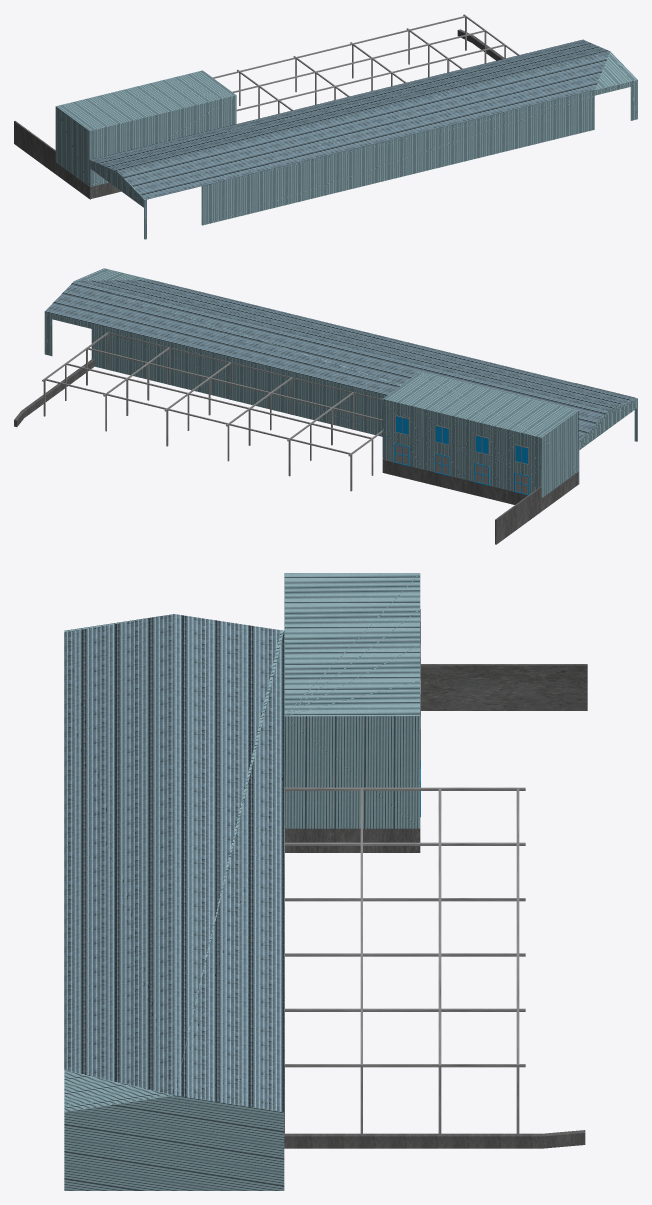
Rendered from changfang14.gltf.
The picture shows the model from 3 angles, top to bottom: view 1: azimuth 30°, elevation 25°; view 2: azimuth 150°, elevation 25°; view 3: azimuth 270°, elevation 25°; orthographic projection. The views are drawn at different scales.
Visible parts, largest first — view 1: gongchang14_1, gongchang14_12, gongchang14_7, gongchang14_16, gongchang14_9, gongchang14_10, gongchang14_6; view 2: gongchang14_1, gongchang14_12, gongchang14_7, gongchang14_10, gongchang14_9, gongchang14_6, gongchang14_16, gongchang14_17; view 3: gongchang14_1, gongchang14_12, gongchang14_7, gongchang14_6, gongchang14_9, gongchang14_10, gongchang14_18, gongchang14_14, gongchang14_15, gongchang14_22, gongchang14_21, gongchang14_23.
Boxes of the visible parts, left/top/right/bottom form: gongchang14_1: left=89, top=39, right=637, bottom=239; gongchang14_12: left=55, top=70, right=236, bottom=198; gongchang14_7: left=14, top=121, right=55, bottom=173; gongchang14_16: left=236, top=44, right=505, bottom=111; gongchang14_9: left=212, top=15, right=466, bottom=78; gongchang14_10: left=232, top=30, right=485, bottom=92; gongchang14_6: left=457, top=29, right=504, bottom=60; gongchang14_1: left=44, top=268, right=637, bottom=483; gongchang14_12: left=382, top=372, right=578, bottom=511; gongchang14_7: left=495, top=486, right=541, bottom=544; gongchang14_10: left=65, top=363, right=371, bottom=438; gongchang14_9: left=45, top=379, right=350, bottom=454; gongchang14_6: left=14, top=359, right=94, bottom=426; gongchang14_16: left=86, top=347, right=382, bottom=421; gongchang14_17: left=108, top=332, right=382, bottom=400; gongchang14_1: left=64, top=614, right=284, bottom=1190; gongchang14_12: left=284, top=573, right=420, bottom=852; gongchang14_7: left=421, top=664, right=587, bottom=710; gongchang14_6: left=284, top=1130, right=585, bottom=1148; gongchang14_9: left=516, top=788, right=519, bottom=1067; gongchang14_10: left=438, top=788, right=441, bottom=1067; gongchang14_18: left=284, top=787, right=525, bottom=790; gongchang14_14: left=284, top=842, right=525, bottom=845; gongchang14_15: left=284, top=898, right=525, bottom=901; gongchang14_22: left=284, top=1008, right=525, bottom=1011; gongchang14_21: left=285, top=953, right=525, bottom=956; gongchang14_23: left=285, top=1064, right=525, bottom=1067.
Size of the model in its own units: 681 by 90 by 313.
5 materials, 4 textured.
